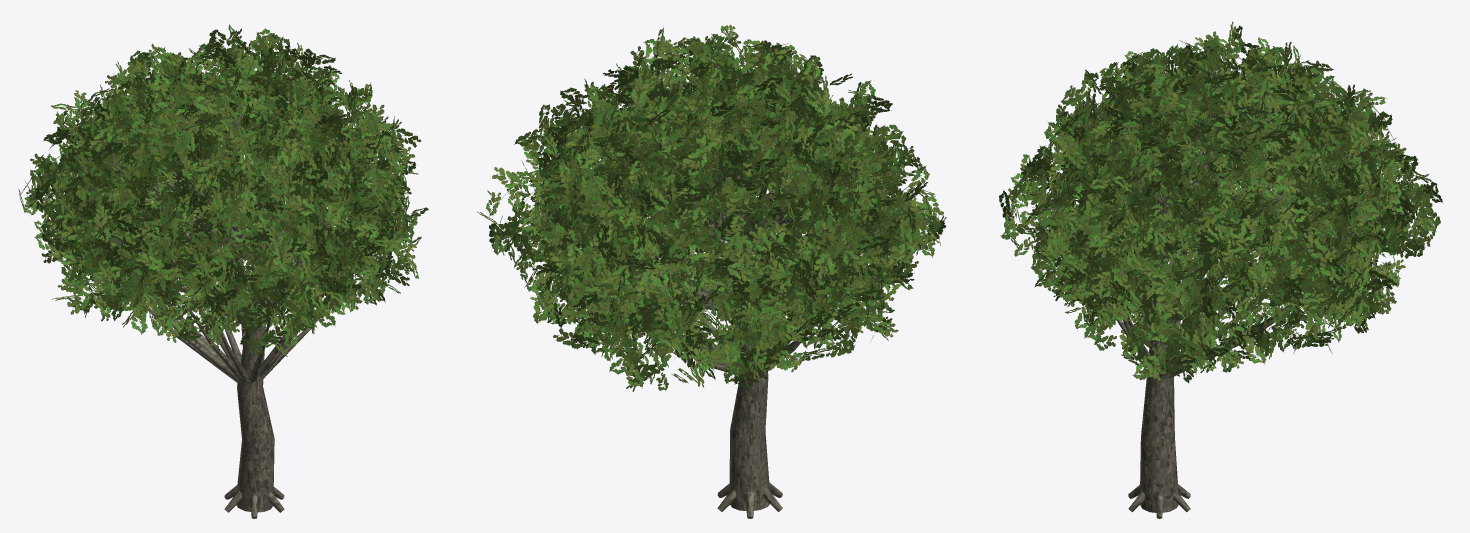
File: G3_near_statue-CsnPSbO9.glb
3 views of the same model, side by side, from view 1: azimuth 30°, elevation 25°; view 2: azimuth 150°, elevation 25°; view 3: azimuth 270°, elevation 25° (orthographic). The views are drawn at different scales.
Visible parts, largest first — view 1: G3_near_statue_foliage, G3_near_statue_branches; view 2: G3_near_statue_foliage, G3_near_statue_branches; view 3: G3_near_statue_foliage, G3_near_statue_branches.
Boxes of the visible parts, x1=… form: G3_near_statue_foliage: x1=18, y1=24, x2=428, y2=356; G3_near_statue_branches: x1=70, y1=46, x2=380, y2=518; G3_near_statue_foliage: x1=477, y1=24, x2=946, y2=391; G3_near_statue_branches: x1=533, y1=66, x2=909, y2=518; G3_near_statue_foliage: x1=999, y1=21, x2=1442, y2=383; G3_near_statue_branches: x1=1031, y1=66, x2=1404, y2=518.
Size of the model in its own units: 10.38 by 11.54 by 10.5.
2 materials, 2 textured.
